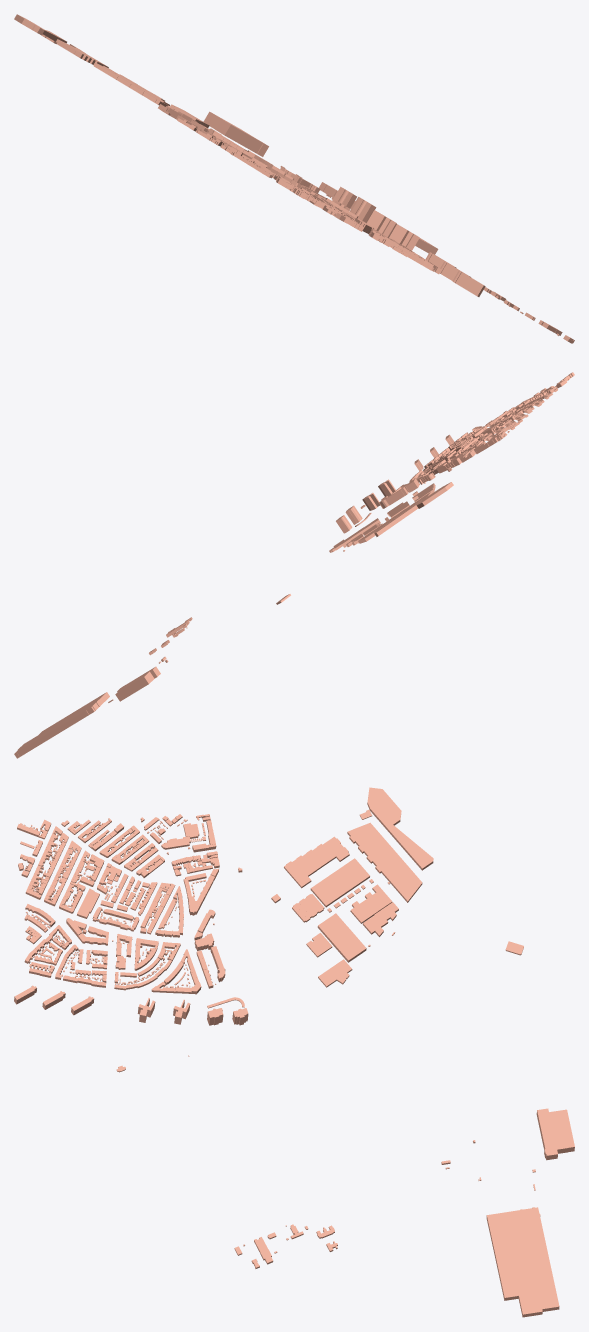
3 views of the same model, one above another, from view 1: azimuth 30°, elevation 25°; view 2: azimuth 150°, elevation 25°; view 3: azimuth 270°, elevation 25° (orthographic). The views are drawn at different scales.
Bounding box in the file's own units: 1092 × 877 × 1322.
